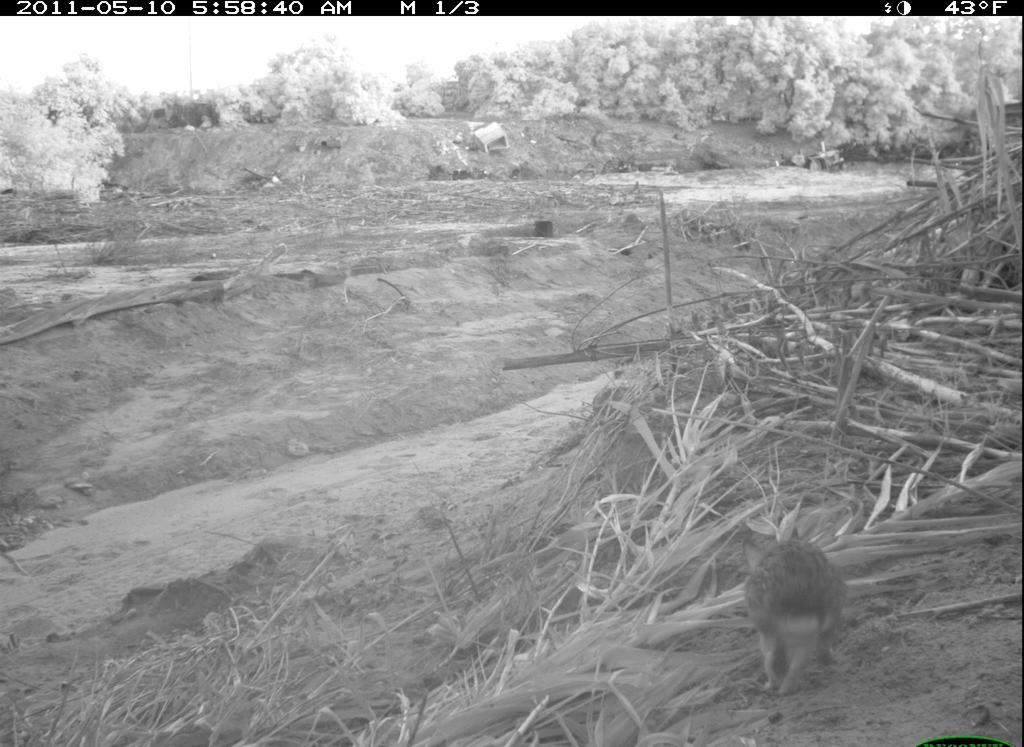rabbit: (719, 502, 854, 703)
